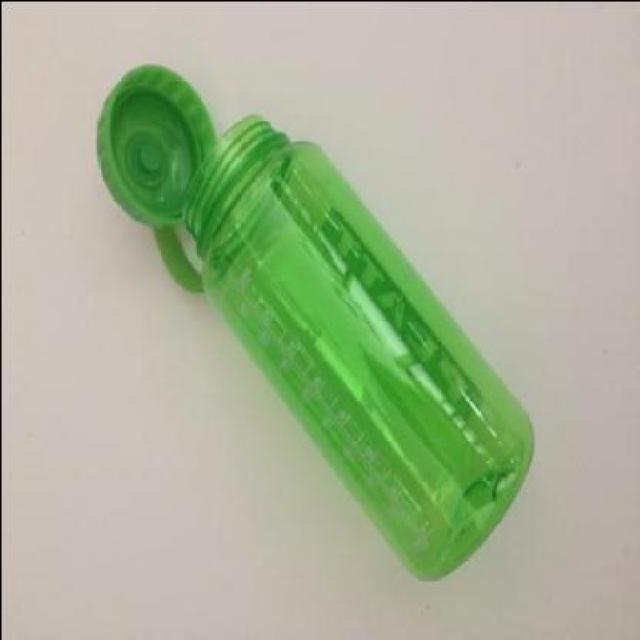PLASTIC: (180, 111, 532, 578), (94, 61, 288, 292)
